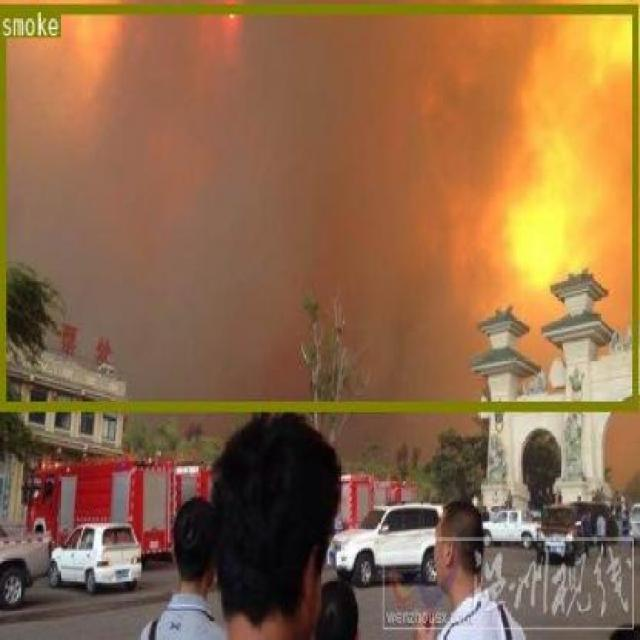smoke: (0, 4, 637, 410)
